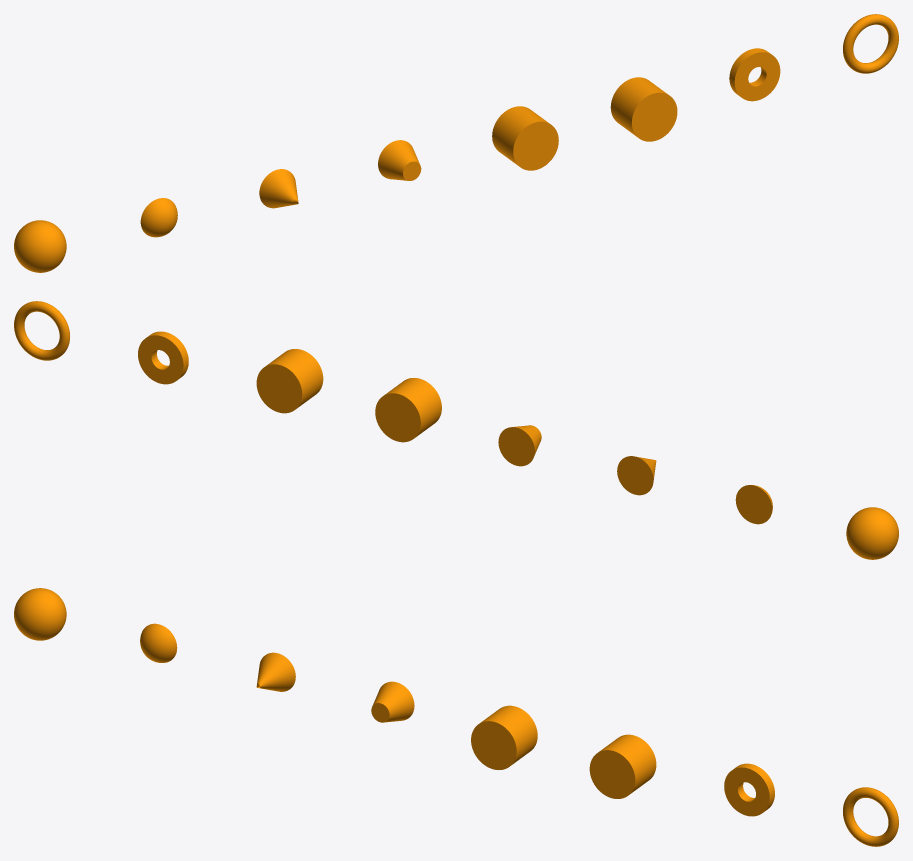
Rendered from assembly.glb.
3 views of the same model, one above another, from view 1: azimuth 30°, elevation 25°; view 2: azimuth 150°, elevation 25°; view 3: azimuth 330°, elevation 25° (orthographic).
Visible parts, largest first — view 1: analytic-cylinder.step, revolution-cylinder.step, revolution-sphere.step, revolution-ring.step, revolution-torus.step, revolution-frustum.step, revolution-cone.step, revolution-dome.step; view 2: analytic-cylinder.step, revolution-cylinder.step, revolution-sphere.step, revolution-ring.step, revolution-torus.step, revolution-frustum.step, revolution-cone.step, revolution-dome.step; view 3: analytic-cylinder.step, revolution-cylinder.step, revolution-sphere.step, revolution-ring.step, revolution-torus.step, revolution-frustum.step, revolution-cone.step, revolution-dome.step.
Part boxes in pixels (left/top/right/bottom): analytic-cylinder.step: left=610, top=77, right=677, bottom=141; revolution-cylinder.step: left=492, top=106, right=558, bottom=170; revolution-sphere.step: left=14, top=220, right=66, bottom=272; revolution-ring.step: left=729, top=48, right=780, bottom=101; revolution-torus.step: left=843, top=14, right=898, bottom=73; revolution-frustum.step: left=378, top=140, right=421, bottom=180; revolution-cone.step: left=259, top=169, right=298, bottom=208; revolution-dome.step: left=140, top=198, right=177, bottom=237; analytic-cylinder.step: left=256, top=349, right=323, bottom=413; revolution-cylinder.step: left=375, top=378, right=441, bottom=442; revolution-sphere.step: left=846, top=507, right=898, bottom=559; revolution-ring.step: left=138, top=331, right=188, bottom=384; revolution-torus.step: left=14, top=301, right=69, bottom=360; revolution-frustum.step: left=498, top=425, right=541, bottom=466; revolution-cone.step: left=617, top=456, right=656, bottom=495; revolution-dome.step: left=735, top=485, right=772, bottom=524; analytic-cylinder.step: left=589, top=734, right=656, bottom=798; revolution-cylinder.step: left=471, top=705, right=537, bottom=769; revolution-sphere.step: left=14, top=588, right=66, bottom=640; revolution-ring.step: left=724, top=763, right=774, bottom=816; revolution-torus.step: left=843, top=787, right=898, bottom=846; revolution-frustum.step: left=371, top=681, right=414, bottom=722; revolution-cone.step: left=256, top=652, right=295, bottom=691; revolution-dome.step: left=140, top=623, right=177, bottom=662.
Bounding box in the file's own units: 0.193 × 0.012 × 0.013.
